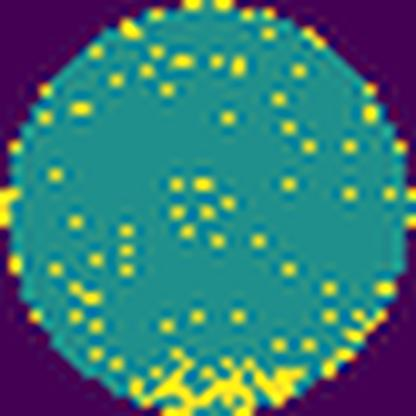Edge-Loc: (125, 349, 309, 416)
